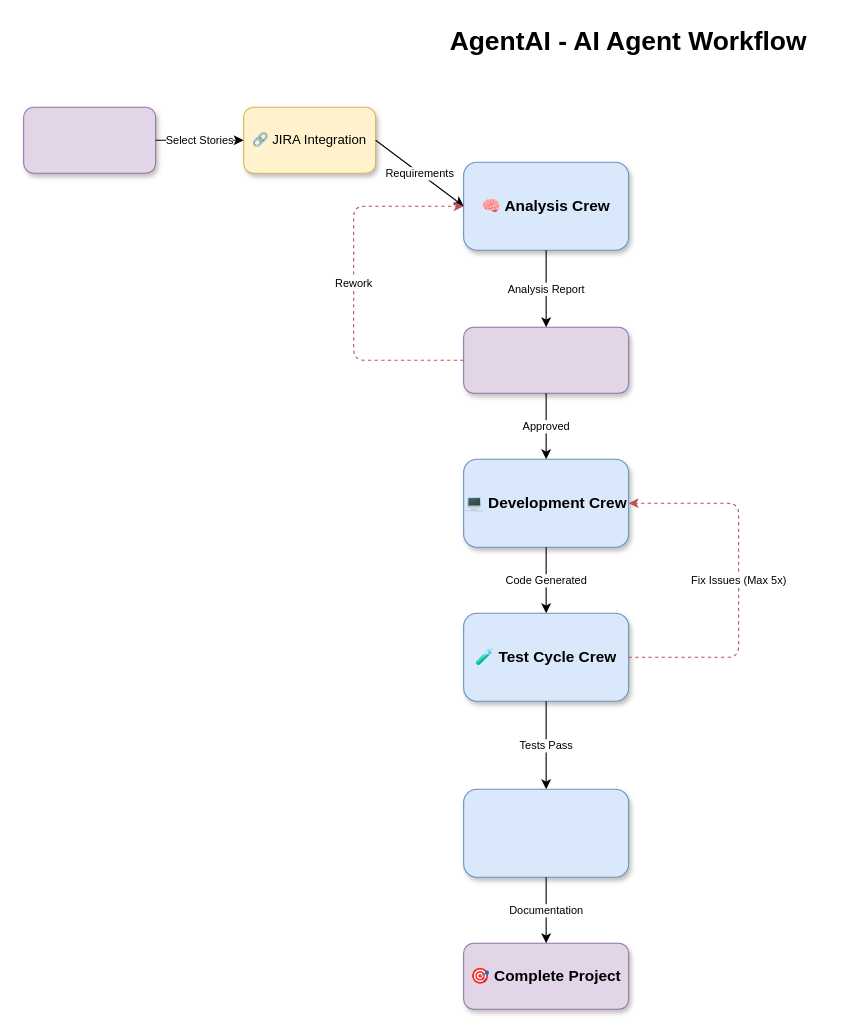
Some shapes in this 868 by 1036 pixel diagram are drawn without their labels. The shapes that lost their labels are listed below. From the top down, each one's centre as x and y in pixels, then its label:
At point (90, 141): "👤 User".
At point (546, 361): "✋ Human Approval".
At point (546, 834): "📚 Documentation Crew".
